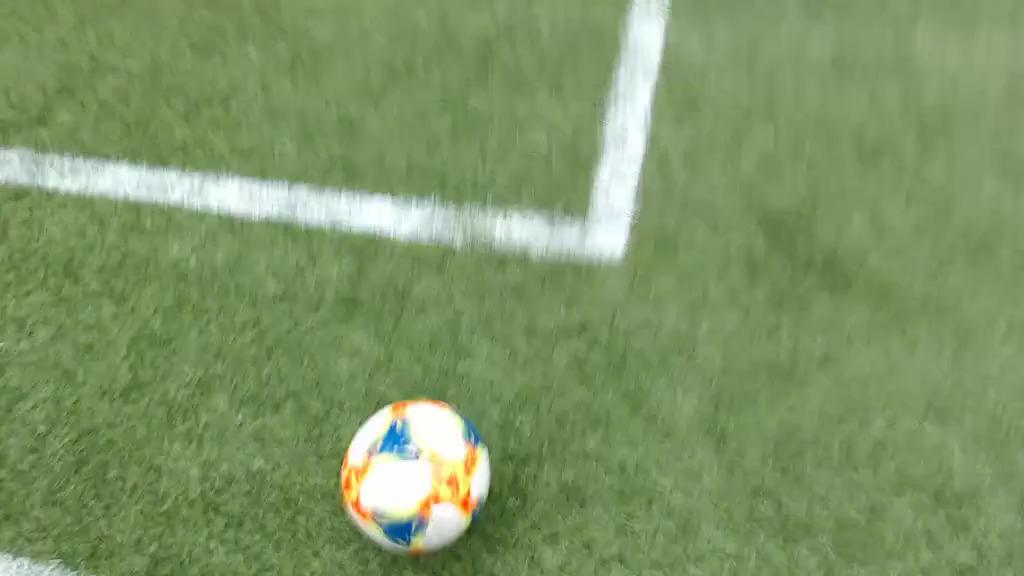ball: (339, 399, 492, 554)
